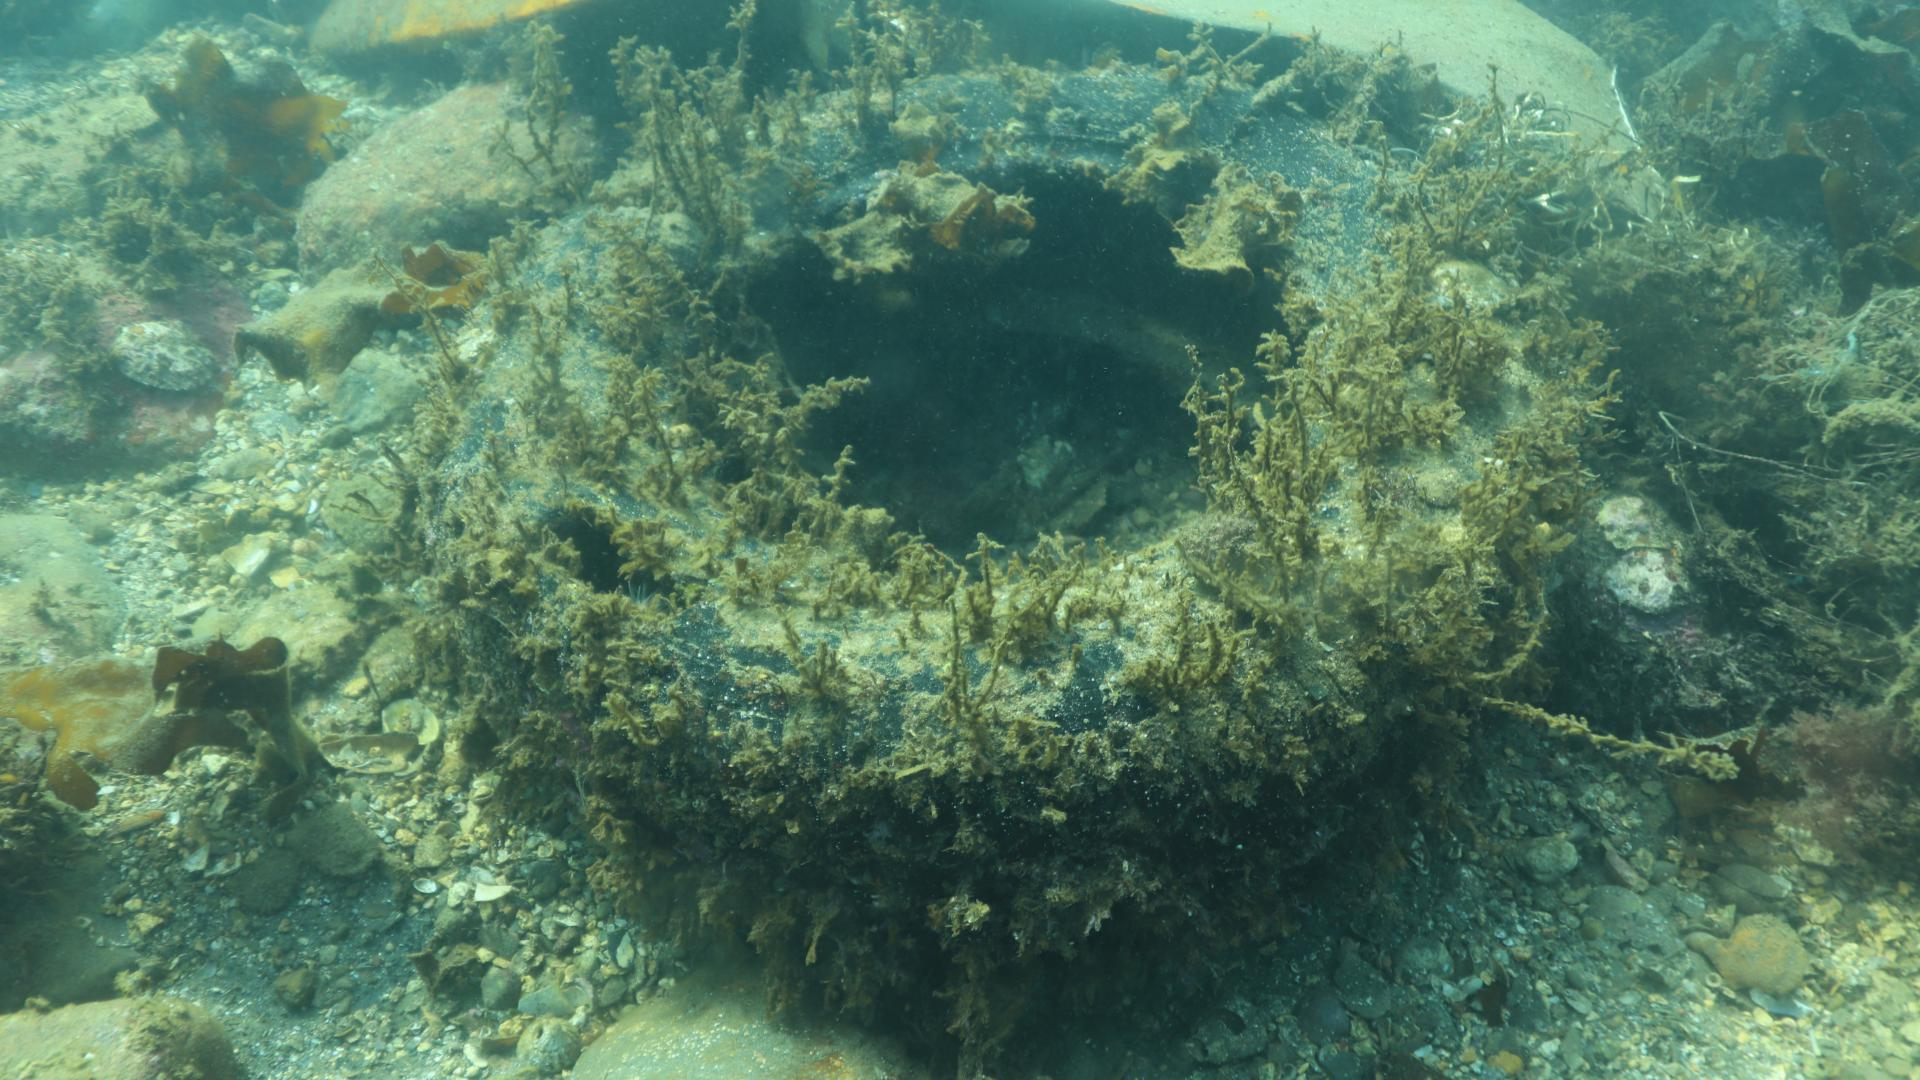tire: (433, 62, 1582, 997)
